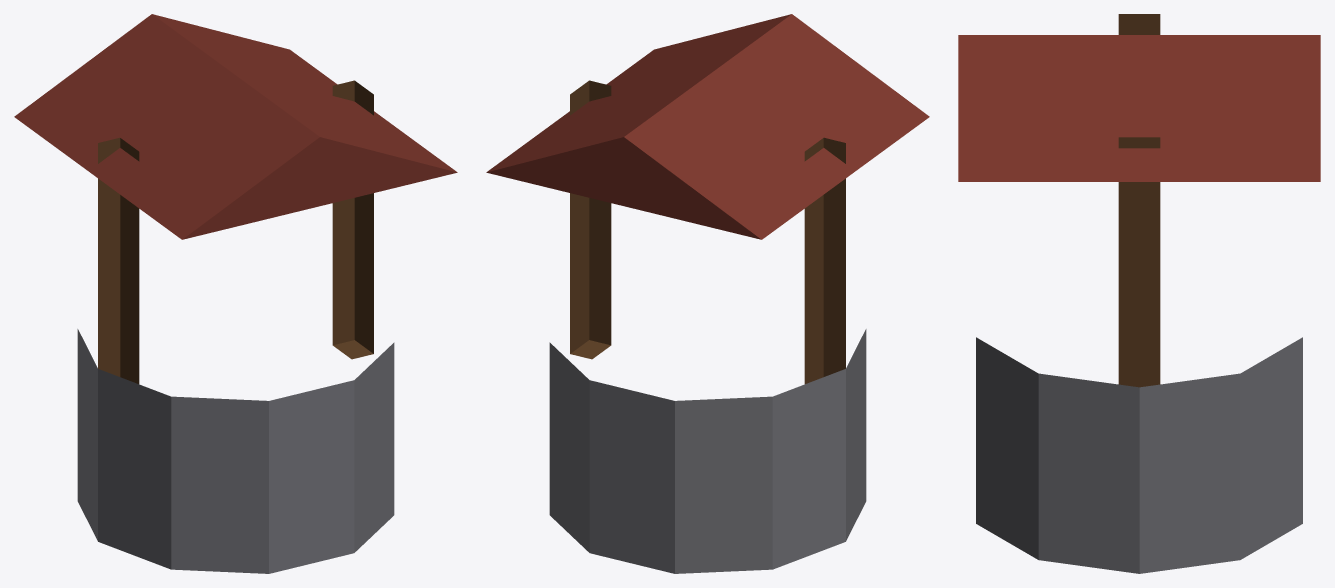
The model's file is well.glb.
3 views of the same model, side by side, from view 1: azimuth 30°, elevation 25°; view 2: azimuth 150°, elevation 25°; view 3: azimuth 270°, elevation 25° (orthographic). The views are drawn at different scales.
Visible parts, largest first — view 1: well; view 2: well; view 3: well.
Boxes of the visible parts, x1,y1,x2,y2 form: well: (14, 14, 457, 573); well: (486, 14, 929, 573); well: (958, 14, 1320, 573).
Size of the model in its own units: 0.666 by 0.998 by 0.7028.
